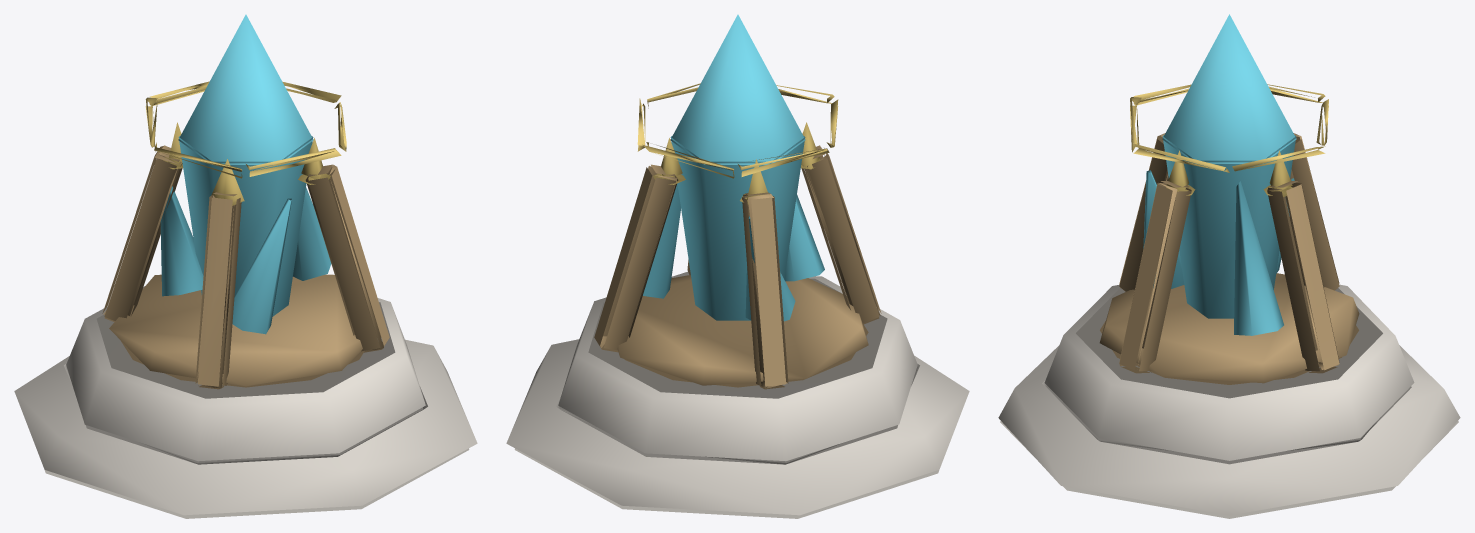
Rendered from arcane_pylon_lod2.glb.
3 views of the same model, side by side, from view 1: azimuth 30°, elevation 25°; view 2: azimuth 150°, elevation 25°; view 3: azimuth 270°, elevation 25° (orthographic).
Parts seen in each view (by area): view 1: arcane_pylon.001; view 2: arcane_pylon.001; view 3: arcane_pylon.001.
Boxes of the visible parts, x1=… form: arcane_pylon.001: x1=14, y1=14, x2=477, y2=518; arcane_pylon.001: x1=506, y1=14, x2=969, y2=518; arcane_pylon.001: x1=998, y1=14, x2=1460, y2=518.
Size of the model in its own units: 2.65 by 2.58 by 2.65.
